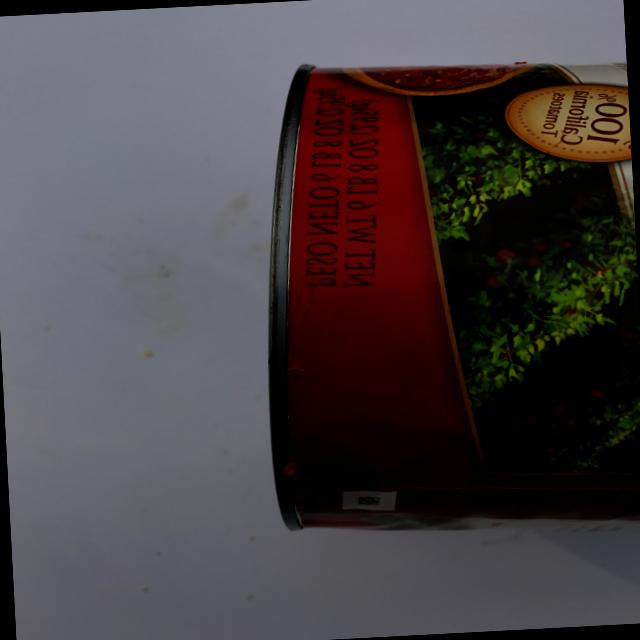Metal: (221, 36, 640, 578)
